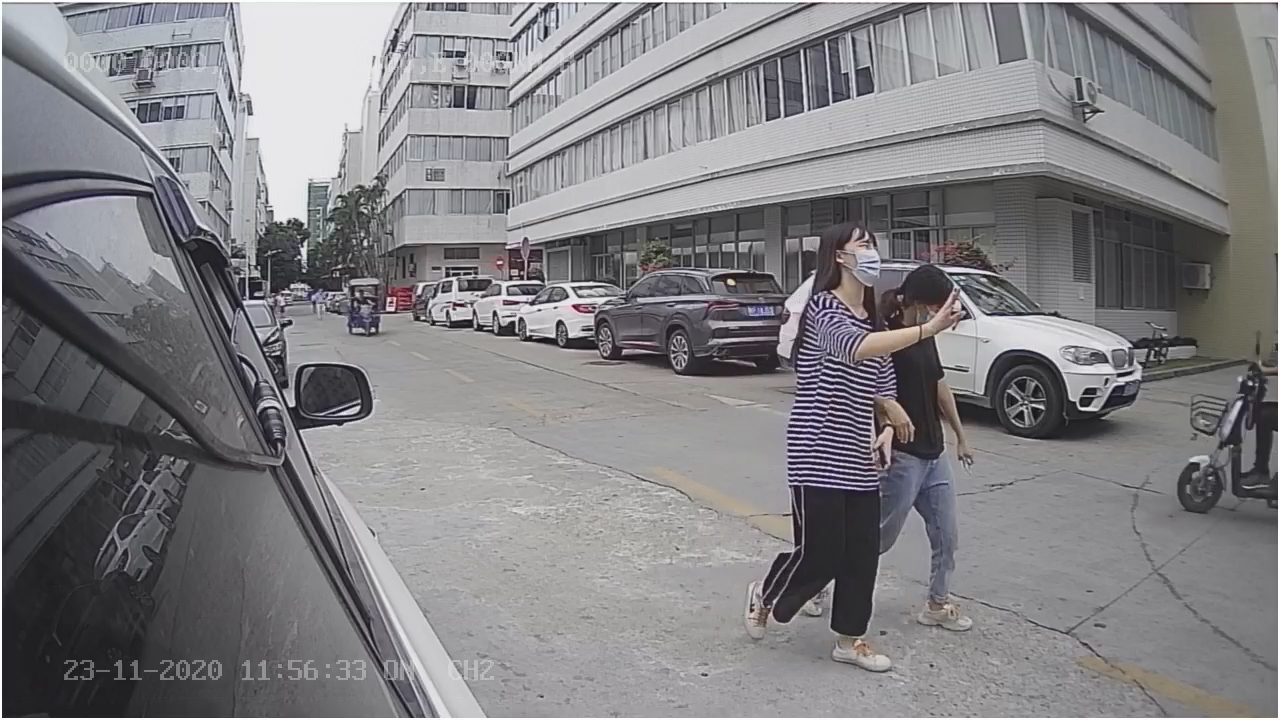person: (731, 213, 896, 673)
